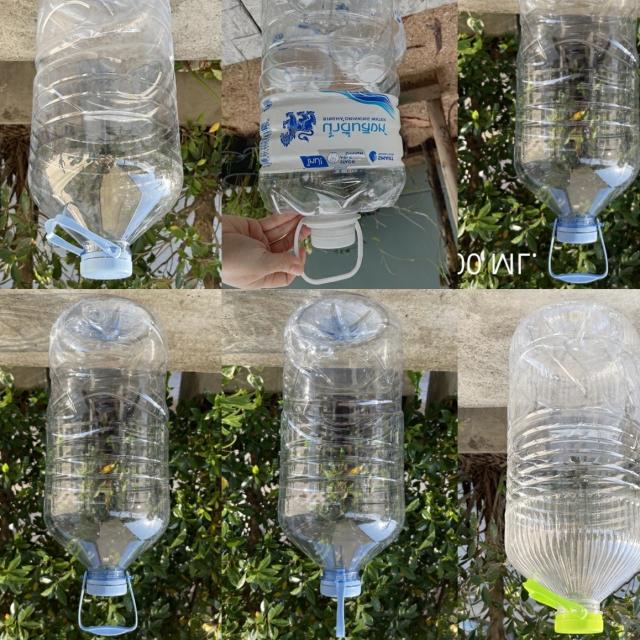plastik: (506, 301, 640, 634), (279, 293, 405, 637), (28, 0, 183, 279), (254, 0, 405, 284), (44, 297, 170, 636), (514, 0, 640, 283)
